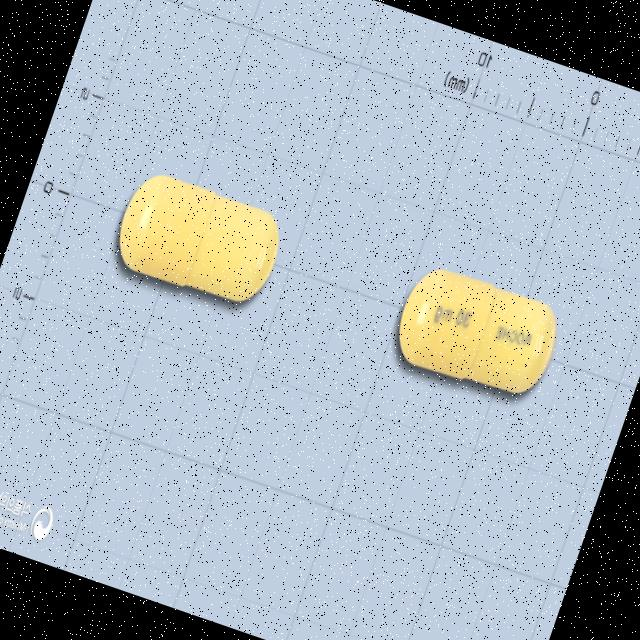Tamiflu Cap: (107, 164, 290, 314), (386, 258, 566, 408)
